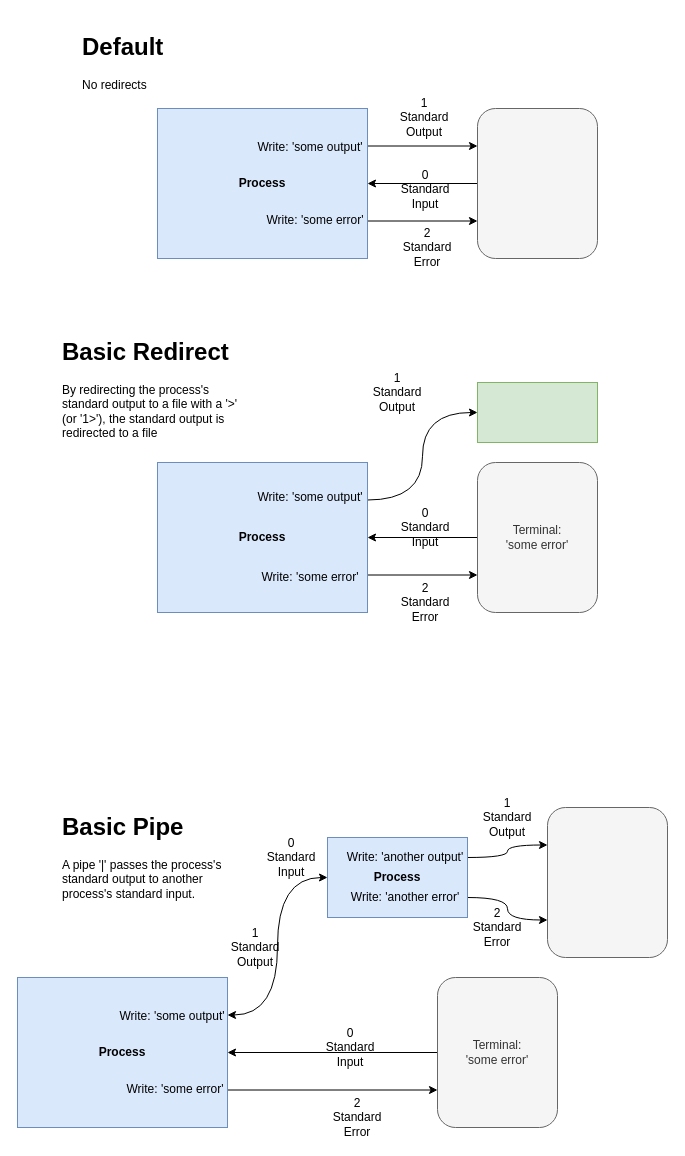
This 685x1156 diagram has some shape labels left out. The box of each missing label's shape, as (x1, y1, x2, y2) in pixels:
File: 'some output': (476, 382, 598, 442)
Terminal: 'another output another error': (546, 806, 668, 958)
Terminal: 'some output some error': (476, 108, 598, 258)
